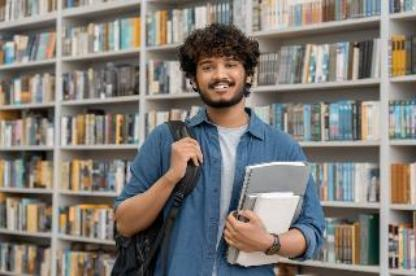person: (109, 18, 328, 276)
